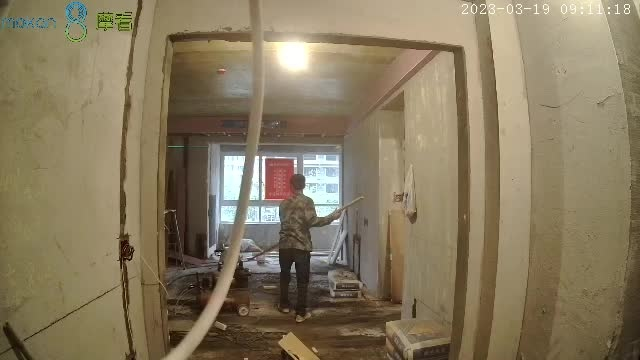people: (277, 172, 337, 323)
window: (219, 151, 342, 224)
